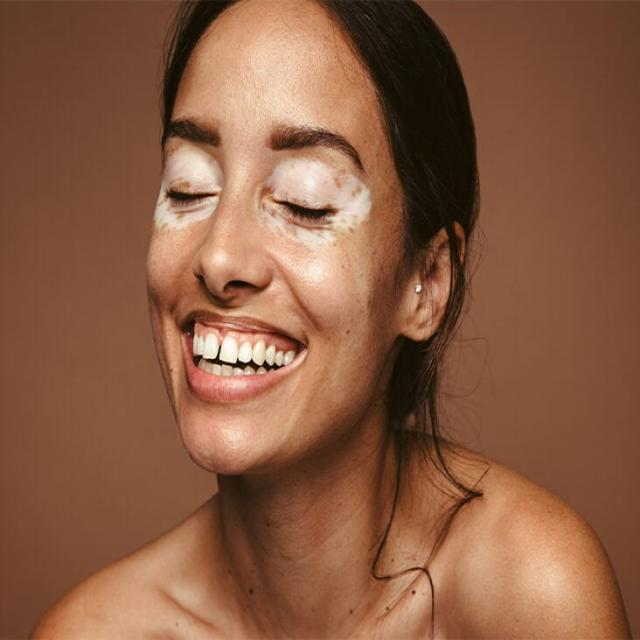vitiligo: (140, 154, 392, 243)
